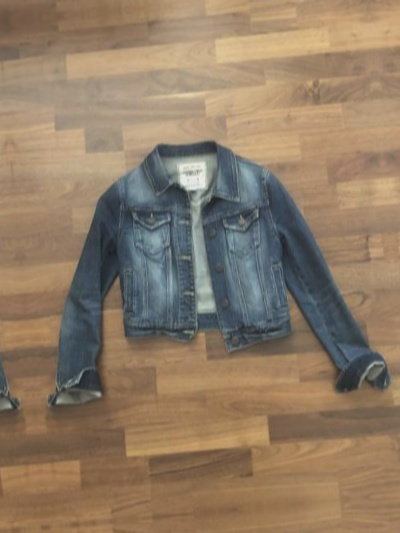Blazer: (11, 84, 396, 441), (0, 118, 32, 475), (387, 48, 400, 406)
